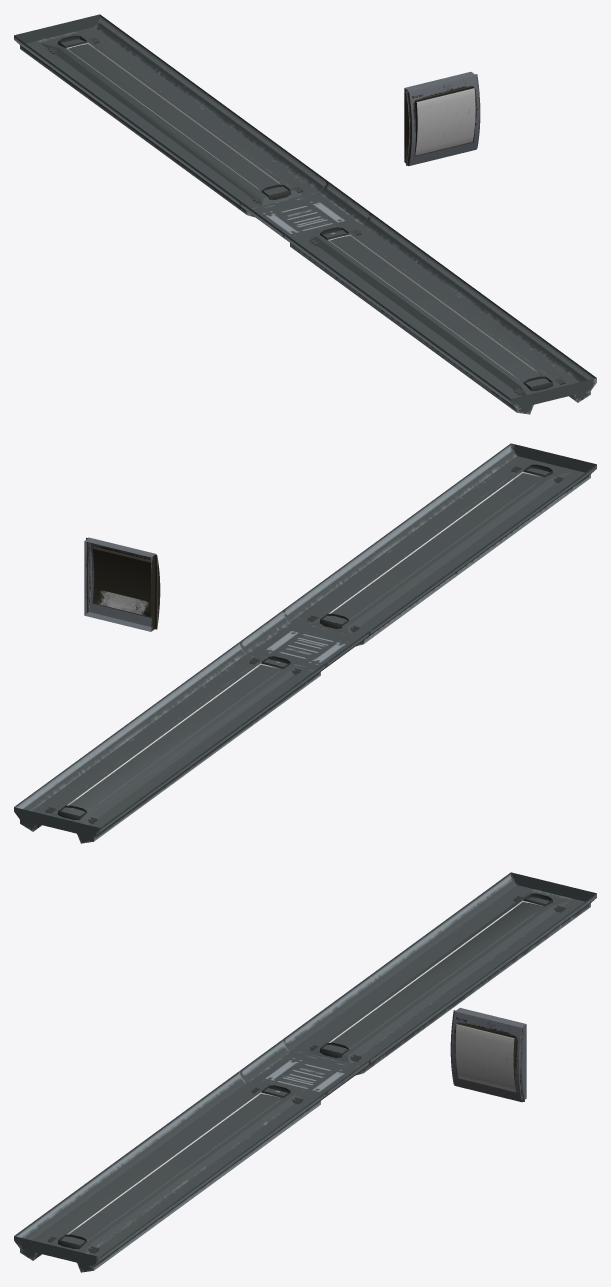
File: light.fbx
3 renders of one model, top to bottom at view 1: azimuth 30°, elevation 25°; view 2: azimuth 150°, elevation 25°; view 3: azimuth 330°, elevation 25°, orthographic.
Parts seen in each view (by area): view 1: Light_05_Material #39_0, 02_light switch_0, Light_05_Material #38_0; view 2: Light_05_Material #39_0, 02_light switch_0, Light_05_Material #38_0; view 3: Light_05_Material #39_0, 02_light switch_0, Light_05_Material #38_0.
Boxes of the visible parts, x1,y1,x2,y2 form: Light_05_Material #39_0: (14,14,596,414); 02_light switch_0: (404,72,480,165); Light_05_Material #38_0: (76,50,534,375); Light_05_Material #39_0: (14,443,596,843); 02_light switch_0: (84,537,160,631); Light_05_Material #38_0: (76,479,534,804); Light_05_Material #39_0: (14,872,596,1272); 02_light switch_0: (450,1008,526,1102); Light_05_Material #38_0: (76,908,534,1233).
Size of the model in its own units: 9.59 by 3.37 by 34.57.
Materials: 2 (2 with a texture image).
